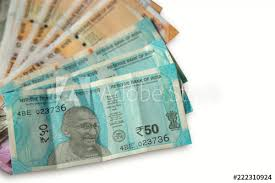fifty: (15, 99, 177, 145)
